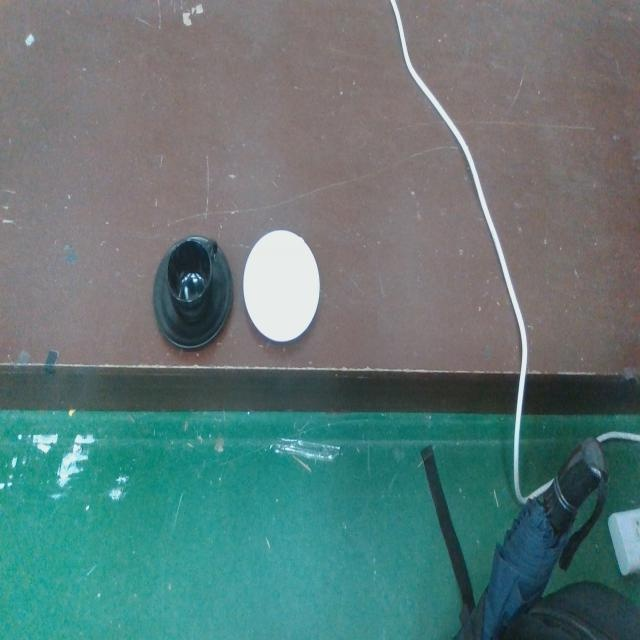black: (151, 232, 235, 354)
white: (241, 225, 323, 350)
